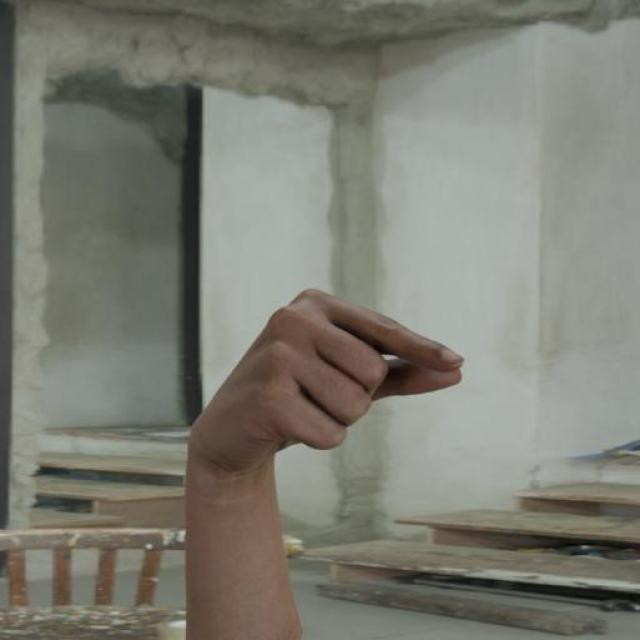G: (180, 287, 471, 468)
